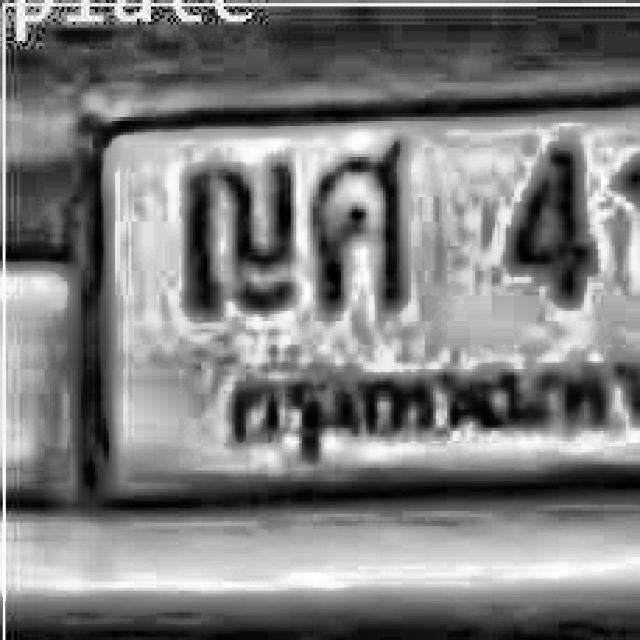license-plate: (75, 79, 640, 522)
